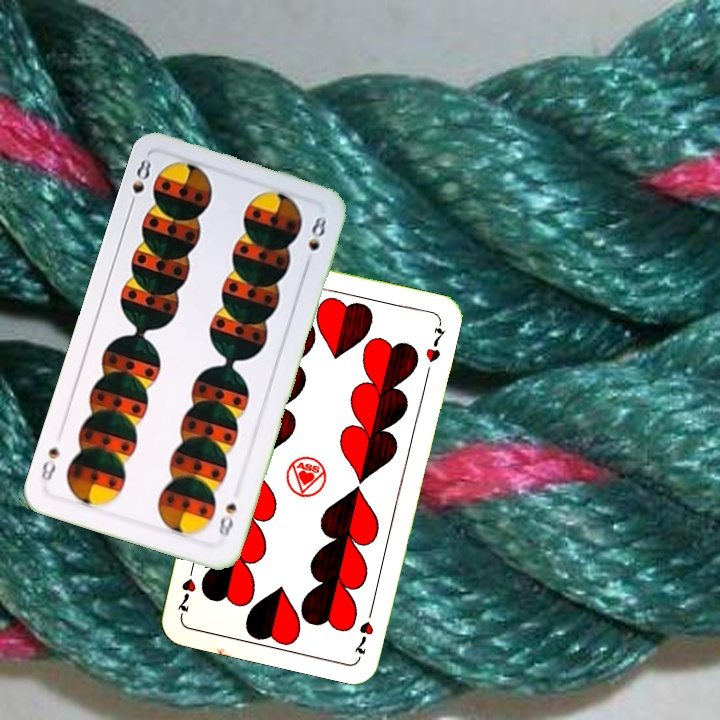H7: (350, 601, 377, 660)
S8: (125, 154, 154, 211), (214, 499, 239, 540)
